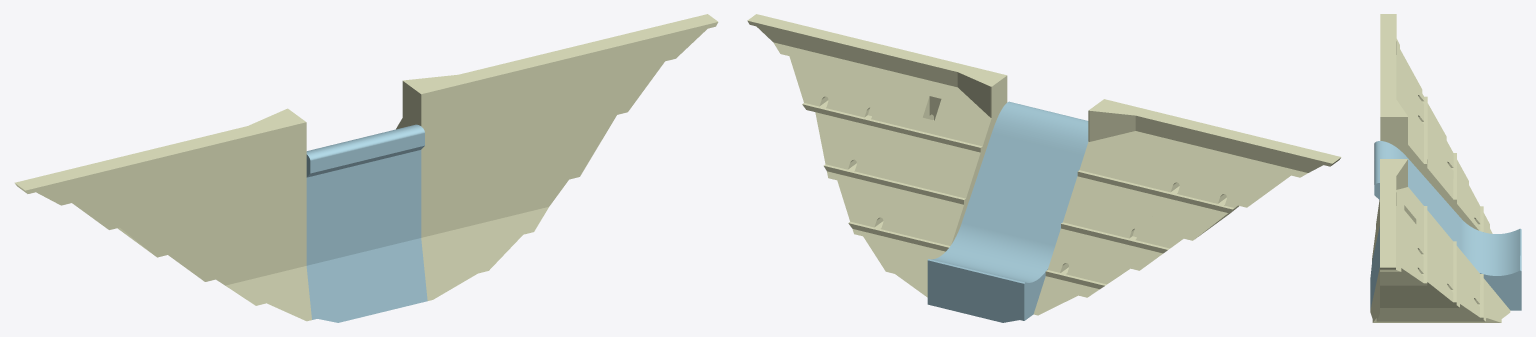
File: dam2.glb
3 views of the same model, side by side, from view 1: azimuth 30°, elevation 25°; view 2: azimuth 150°, elevation 25°; view 3: azimuth 270°, elevation 25° (orthographic). The views are drawn at different scales.
Visible parts, largest first — view 1: K07Y001 K07Y001 [2315560], K08Y001 K08Y001 [2365078], K09D001 K09D001 [2440534], K06D001 K06D001 [2281762], K08U014 K08U014 [2387872], K08U015 K08U015 [2388658], K08U016 K08U016 [2389444], K08U013 K08U013 [2387086], K07U016 K07U016 [2339926], K07U013 K07U013 [2337568], K07U014 K07U014 [2338354], K07U015 K07U015 [2339140] (+44 smaller); view 2: K07Y015 K07Y015 [2326564], K08Y015 K08Y015 [2376082], K08Y001 K08Y001 [2365078], K09D001 K09D001 [2440534], K06D001 K06D001 [2281762], K08Y014 K08Y014 [2375296], K07Y001 K07Y001 [2315560], K09D008 K09D008 [2446036], K08Y002 K08Y002 [2365864], K07Y014 K07Y014 [2325778], K09D014 K09D014 [2450752], K09D019 K09D019 [2454682] (+105 smaller); view 3: K08Y015 K08Y015 [2376082], K07Y015 K07Y015 [2326564], K11T004 K11T004 [2552146], K06D001 K06D001 [2281762], K09D001 K09D001 [2440534], K07Y001 K07Y001 [2315560], K11T003 K11T003 [2551360], K12T005 K12T005 [2597734], K11T006 K11T006 [2553718], K12T004 K12T004 [2596948], K11T005 K11T005 [2552932], K10D001 K10D001 [2500270] (+75 smaller).
Boxes of the visible parts, bbox=[...] form: K07Y001 K07Y001 [2315560]: bbox=[306, 138, 367, 163]; K08Y001 K08Y001 [2365078]: bbox=[359, 124, 424, 149]; K09D001 K09D001 [2440534]: bbox=[402, 73, 472, 94]; K06D001 K06D001 [2281762]: bbox=[248, 108, 302, 131]; K08U014 K08U014 [2387872]: bbox=[365, 251, 423, 274]; K08U015 K08U015 [2388658]: bbox=[366, 260, 424, 283]; K08U016 K08U016 [2389444]: bbox=[367, 269, 425, 292]; K08U013 K08U013 [2387086]: bbox=[364, 242, 422, 265]; K07U016 K07U016 [2339926]: bbox=[309, 283, 367, 306]; K07U013 K07U013 [2337568]: bbox=[307, 256, 364, 279]; K07U014 K07U014 [2338354]: bbox=[308, 265, 365, 288]; K07U015 K07U015 [2339140]: bbox=[309, 274, 366, 297]; K07Y015 K07Y015 [2326564]: bbox=[976, 250, 1049, 289]; K08Y015 K08Y015 [2376082]: bbox=[927, 238, 1003, 277]; K08Y001 K08Y001 [2365078]: bbox=[999, 101, 1057, 125]; K09D001 K09D001 [2440534]: bbox=[952, 66, 1004, 91]; K06D001 K06D001 [2281762]: bbox=[1088, 101, 1141, 120]; K08Y014 K08Y014 [2375296]: bbox=[955, 228, 1007, 250]; K07Y001 K07Y001 [2315560]: bbox=[1048, 113, 1088, 135]; K09D008 K09D008 [2446036]: bbox=[934, 127, 987, 148]; K08Y002 K08Y002 [2365864]: bbox=[995, 114, 1047, 136]; K07Y014 K07Y014 [2325778]: bbox=[1004, 239, 1053, 261]; K09D014 K09D014 [2450752]: bbox=[918, 183, 970, 203]; K09D019 K09D019 [2454682]: bbox=[902, 229, 954, 249]; K08Y015 K08Y015 [2376082]: bbox=[1472, 249, 1521, 275]; K07Y015 K07Y015 [2326564]: bbox=[1472, 228, 1521, 254]; K11T004 K11T004 [2552146]: bbox=[1379, 310, 1476, 315]; K06D001 K06D001 [2281762]: bbox=[1384, 99, 1407, 120]; K09D001 K09D001 [2440534]: bbox=[1384, 159, 1407, 179]; K07Y001 K07Y001 [2315560]: bbox=[1374, 141, 1394, 163]; K11T003 K11T003 [2551360]: bbox=[1380, 307, 1471, 311]; K12T005 K12T005 [2597734]: bbox=[1380, 295, 1450, 300]; K11T006 K11T006 [2553718]: bbox=[1377, 316, 1483, 319]; K12T004 K12T004 [2596948]: bbox=[1380, 291, 1445, 296]; K11T005 K11T005 [2552932]: bbox=[1378, 314, 1479, 317]; K10D001 K10D001 [2500270]: bbox=[1384, 179, 1396, 197].
Size of the model in its own units: 260 by 72.5 by 65.52.
